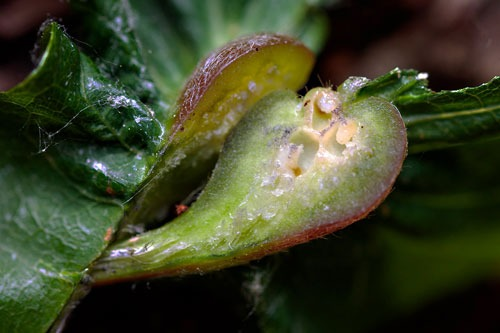galarisi: (107, 30, 406, 258)
